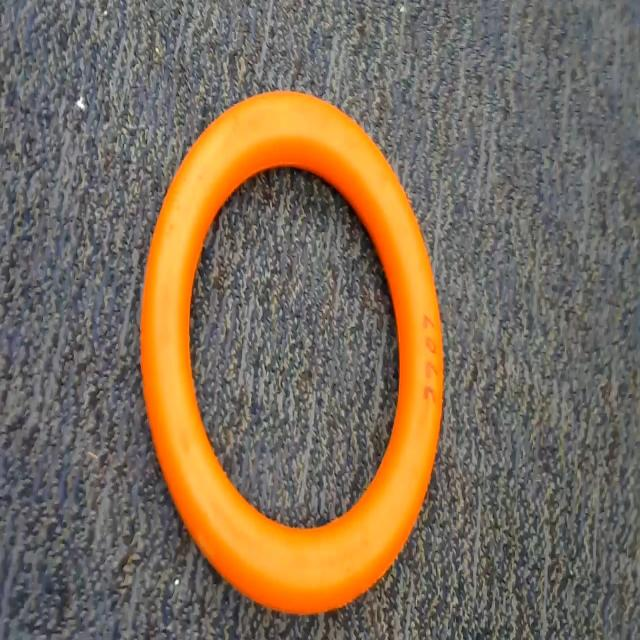note: (137, 79, 457, 621)
